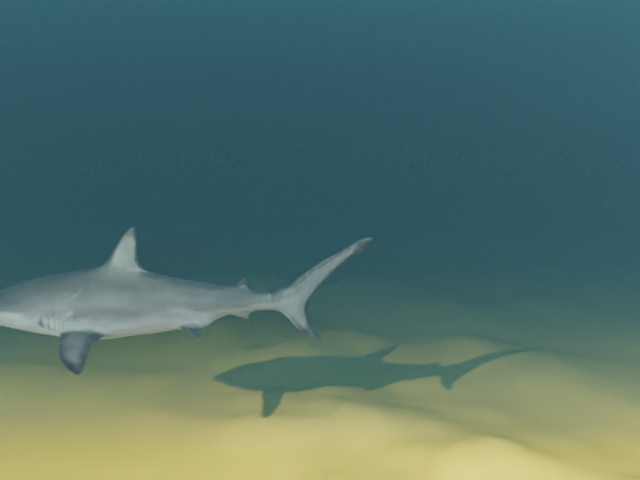Carribean Shark.001: (0, 226, 372, 375)
